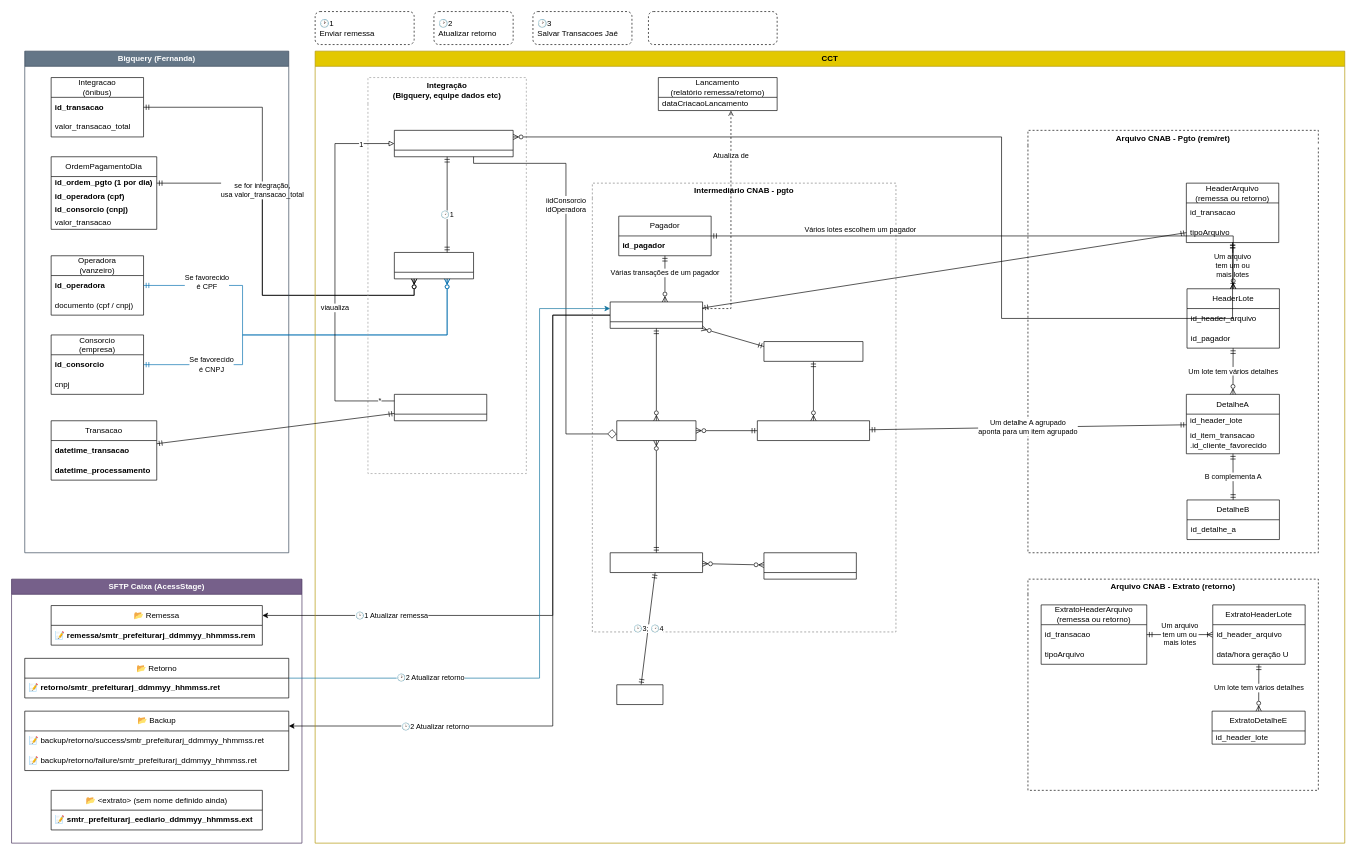
This 1356x855 diagram has some shape labels left out. The centre of each missing label's shape, as x and y in pixels:
AgendamentoPgto: the point at 809,565
ArquivoPublicacao (relatório remessa/retorno): the point at 453,143
ClienteFavorecido: the point at 656,562
ItemTransacao: the point at 656,430
ItemTransacaoAgrupado: the point at 813,430
OrdemPagamento (pagador - jaé): the point at 434,265
Transacao (movim. financeira): the point at 656,314
TransacaoAgrupado: the point at 813,351
TransacaoView (catracadas - jaé): the point at 440,407
User: the point at 639,694
🕑4 Salvar Transações Lançamento: the point at 712,28
